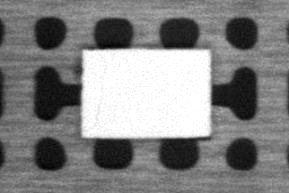DIE_CRACK: (87, 79, 107, 130)
